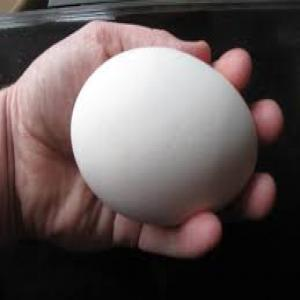Egg: (68, 44, 261, 227)
